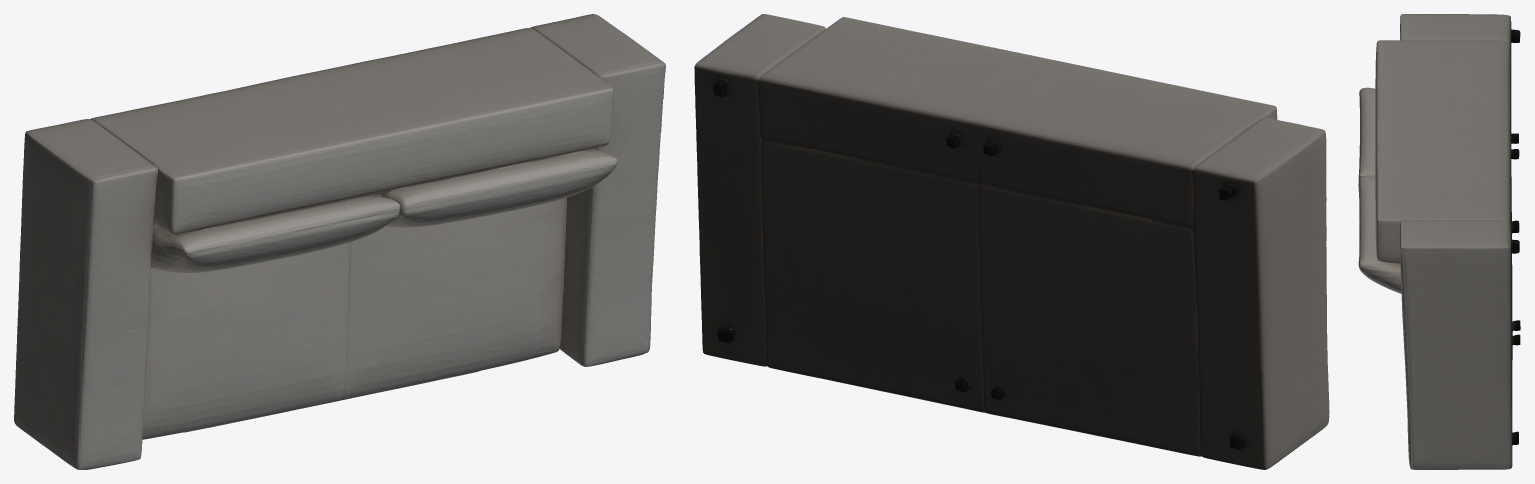
3 renders of one model, left to right at view 1: azimuth 30°, elevation 25°; view 2: azimuth 150°, elevation 25°; view 3: azimuth 270°, elevation 25°, orthographic. The views are drawn at different scales.
Bounding box in the file's own units: 2.24 × 1.15 × 0.6907.
Materials: 1 (1 with a texture image).
